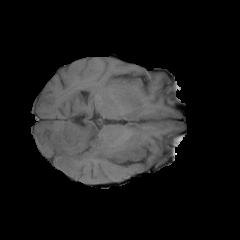glioma: (42, 100, 146, 181)
